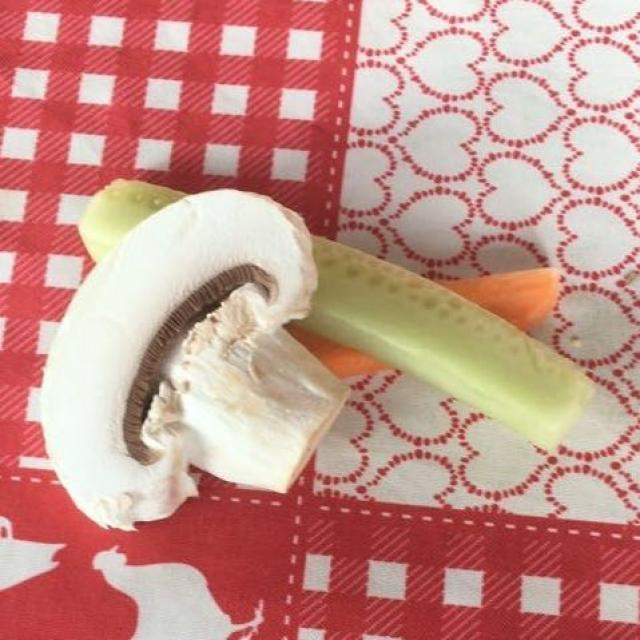carrot: (290, 256, 582, 379)
cucumber: (78, 157, 619, 453)
mushroom: (43, 189, 336, 520)
